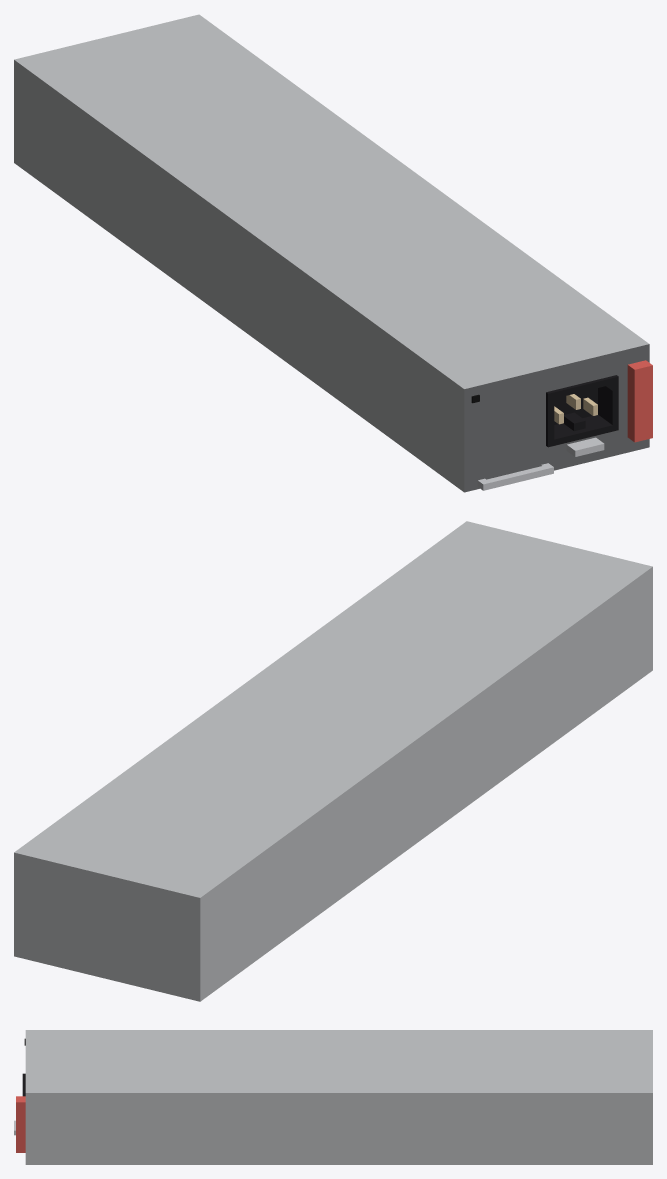
The model's file is C9K-PWR-1600WAC-R.far.glb.
3 views of the same model, one above another, from view 1: azimuth 30°, elevation 25°; view 2: azimuth 150°, elevation 25°; view 3: azimuth 270°, elevation 25° (orthographic). The views are drawn at different scales.
Parts seen in each view (by area): view 1: C9K-PWR-1600WAC-R_Body_far; view 2: C9K-PWR-1600WAC-R_Body_far; view 3: C9K-PWR-1600WAC-R_Body_far.
Boxes of the visible parts, box(x1,y1,x2,y2) form: C9K-PWR-1600WAC-R_Body_far: box(14, 14, 652, 492); C9K-PWR-1600WAC-R_Body_far: box(14, 521, 652, 1001); C9K-PWR-1600WAC-R_Body_far: box(14, 1030, 652, 1164).
Size of the model in its own units: 0.076 by 0.0405 by 0.326.
2 materials, 1 textured.
